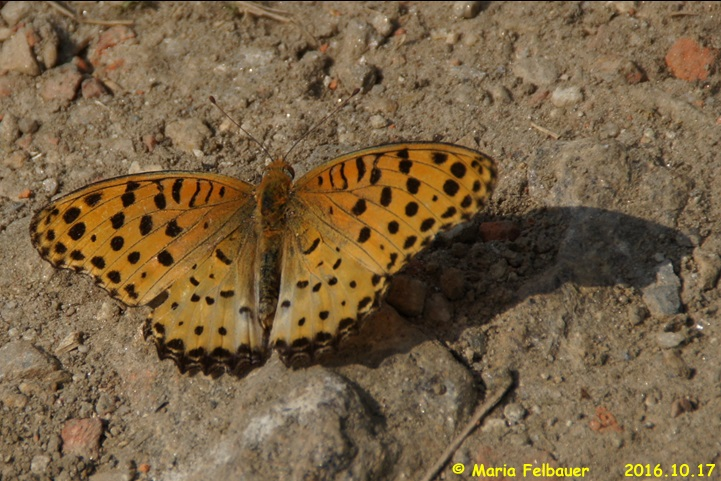Argyreus hyperbius: (24, 88, 498, 377)
butterfly: (26, 90, 500, 379)
